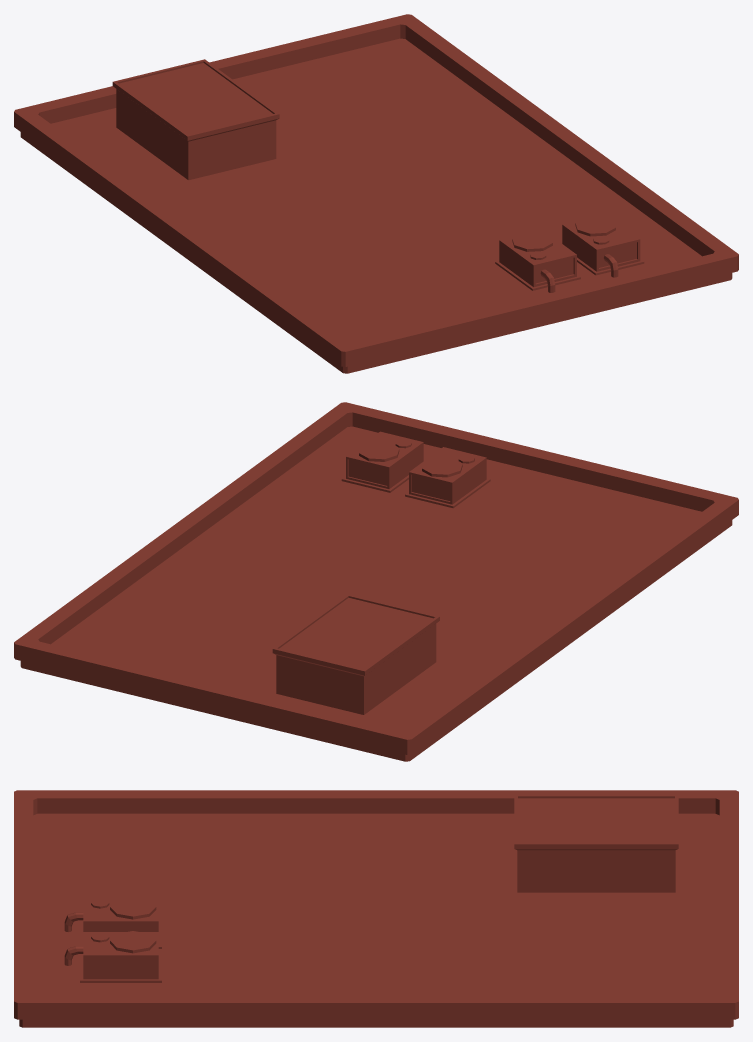
Rendered from House01_Roof.fbx.
3 views of the same model, one above another, from view 1: azimuth 30°, elevation 25°; view 2: azimuth 150°, elevation 25°; view 3: azimuth 270°, elevation 25° (orthographic). The views are drawn at different scales.
Visible parts, largest first — view 1: Plane.036; view 2: Plane.036; view 3: Plane.036.
Part boxes in pixels (x1,y1,x2,y2): Plane.036: (14, 14, 738, 373); Plane.036: (14, 402, 738, 761); Plane.036: (14, 790, 738, 1027).
Bounding box in the file's own units: 682 × 91.56 × 982.
